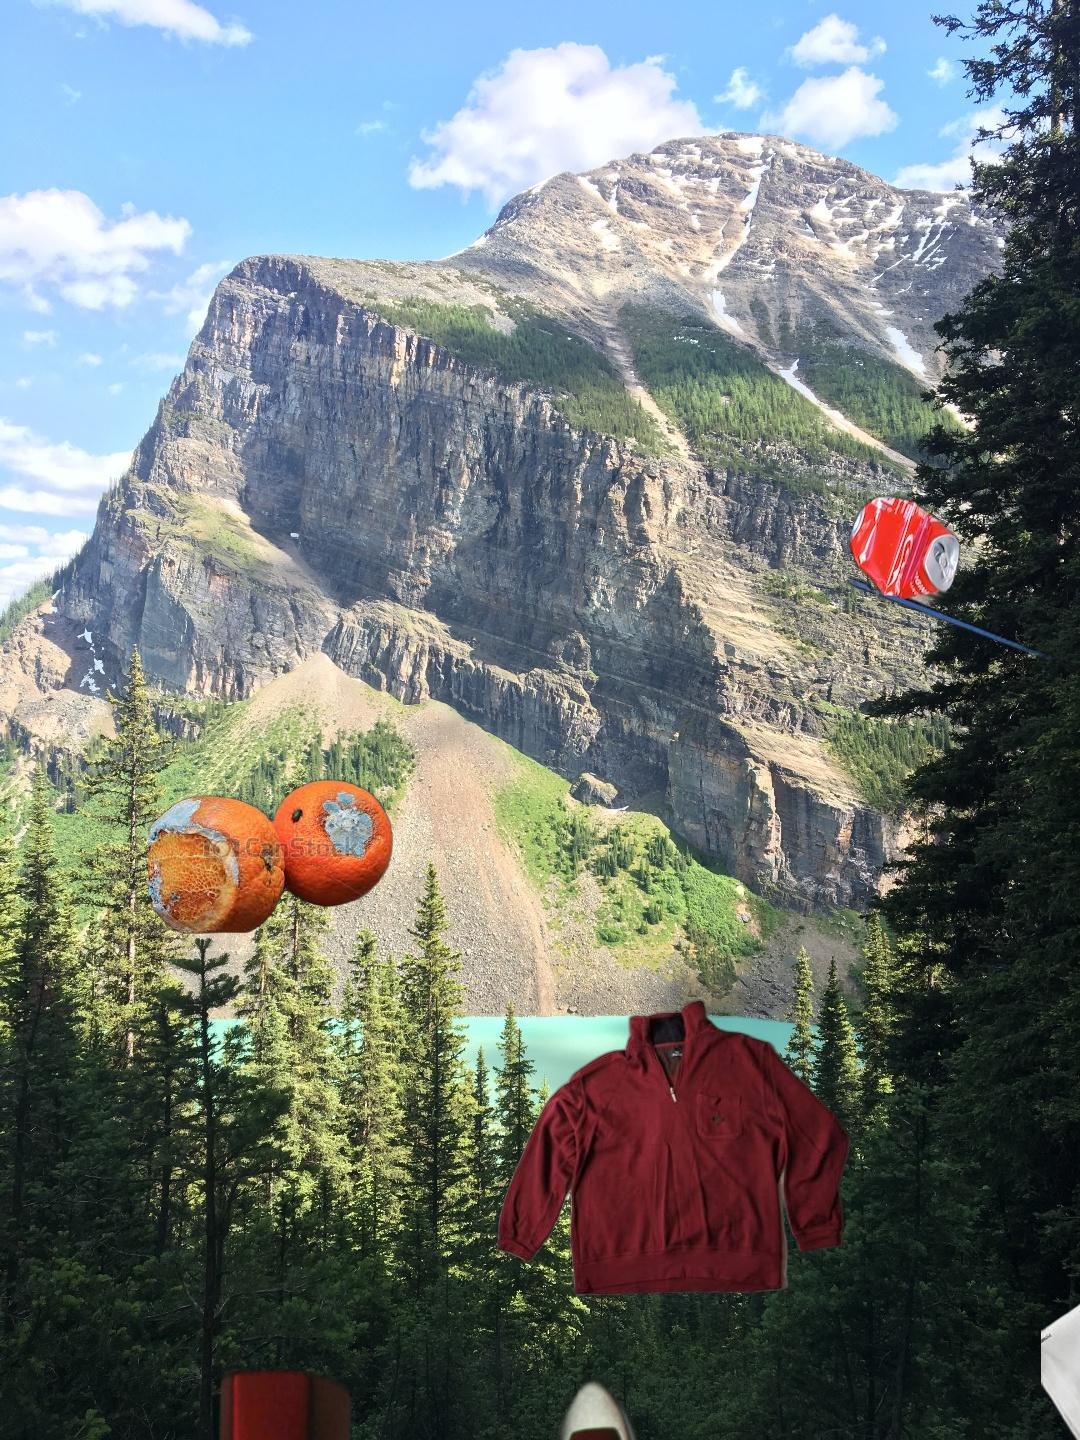biological: (147, 777, 395, 937)
clothes: (493, 997, 855, 1298)
metal-cans: (545, 490, 1056, 700)
paper: (1041, 1200, 1080, 1440)
paper-bag: (1036, 660, 1080, 938)
penholder: (153, 1349, 722, 1440)
